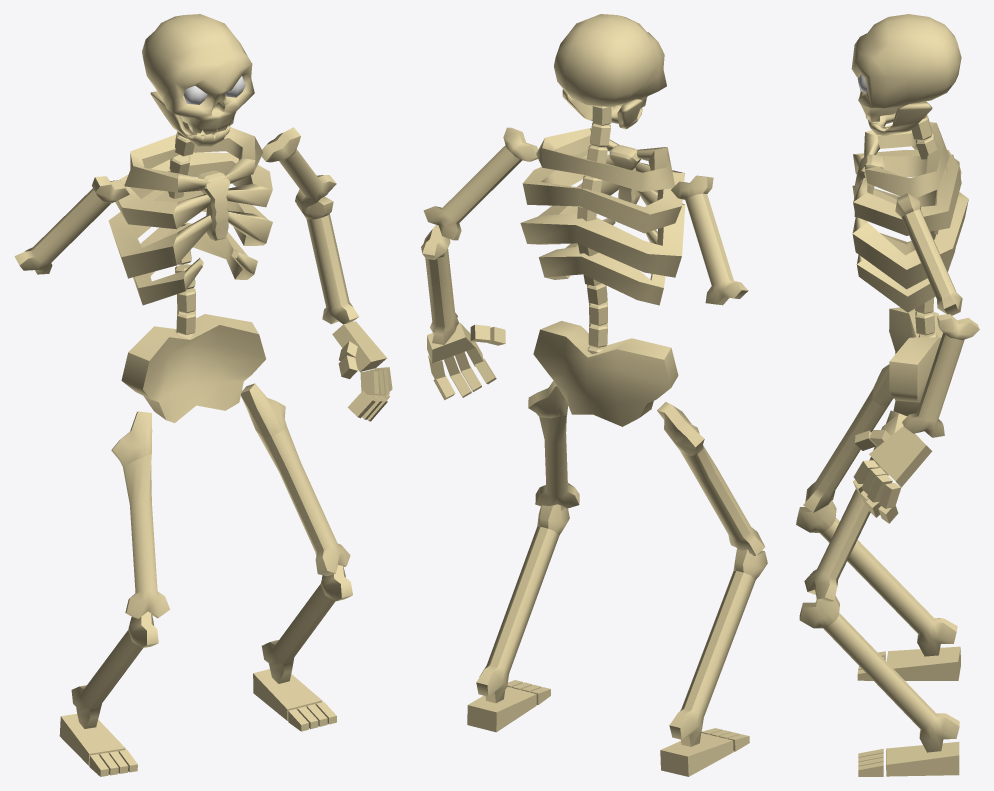
File: skeleton_NOARM_frame02.fbx
3 renders of one model, left to right at view 1: azimuth 30°, elevation 25°; view 2: azimuth 150°, elevation 25°; view 3: azimuth 270°, elevation 25°, orthographic.
Parts seen in each view (by area): view 1: skeleton_incharacter_frame1; view 2: skeleton_incharacter_frame1; view 3: skeleton_incharacter_frame1.
Boxes of the visible parts, x1,y1,x2,y2 form: skeleton_incharacter_frame1: [14, 14, 392, 776]; skeleton_incharacter_frame1: [421, 14, 767, 776]; skeleton_incharacter_frame1: [796, 14, 979, 776].
Bounding box in the file's own units: 84.67 × 167 × 39.7.
